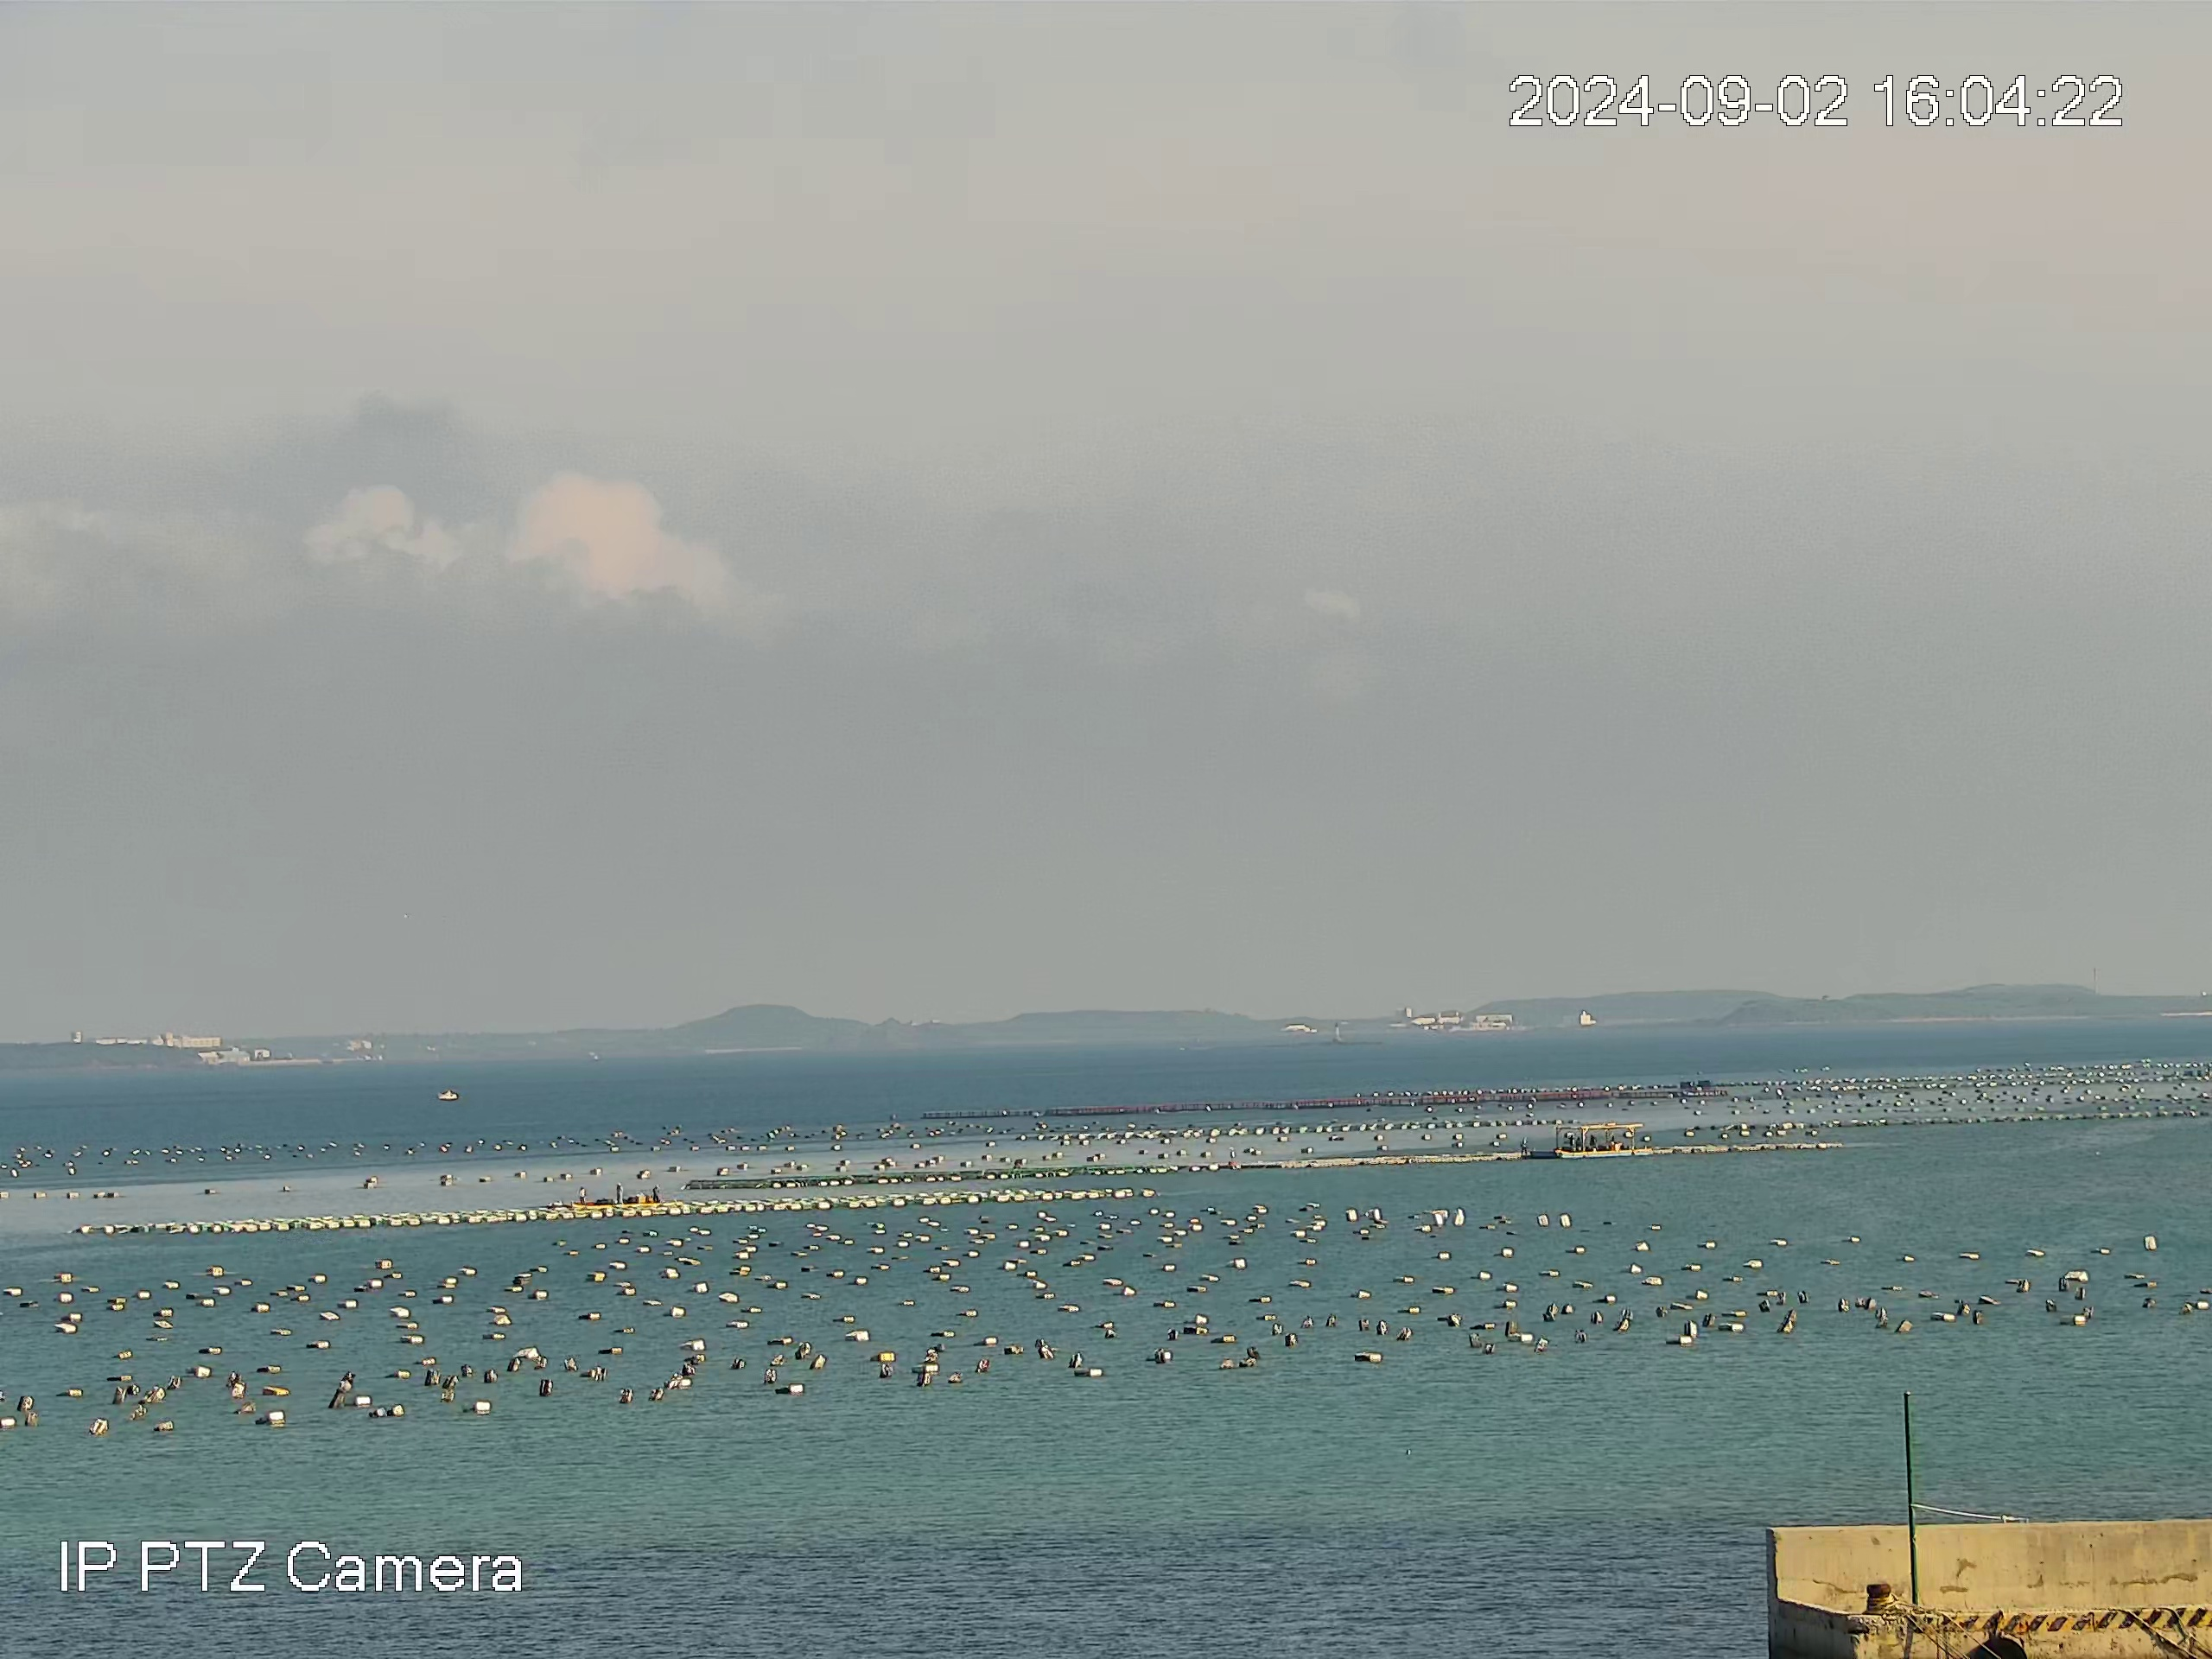boat: (1552, 1122, 1654, 1160), (570, 1182, 664, 1209), (435, 1088, 461, 1102)
